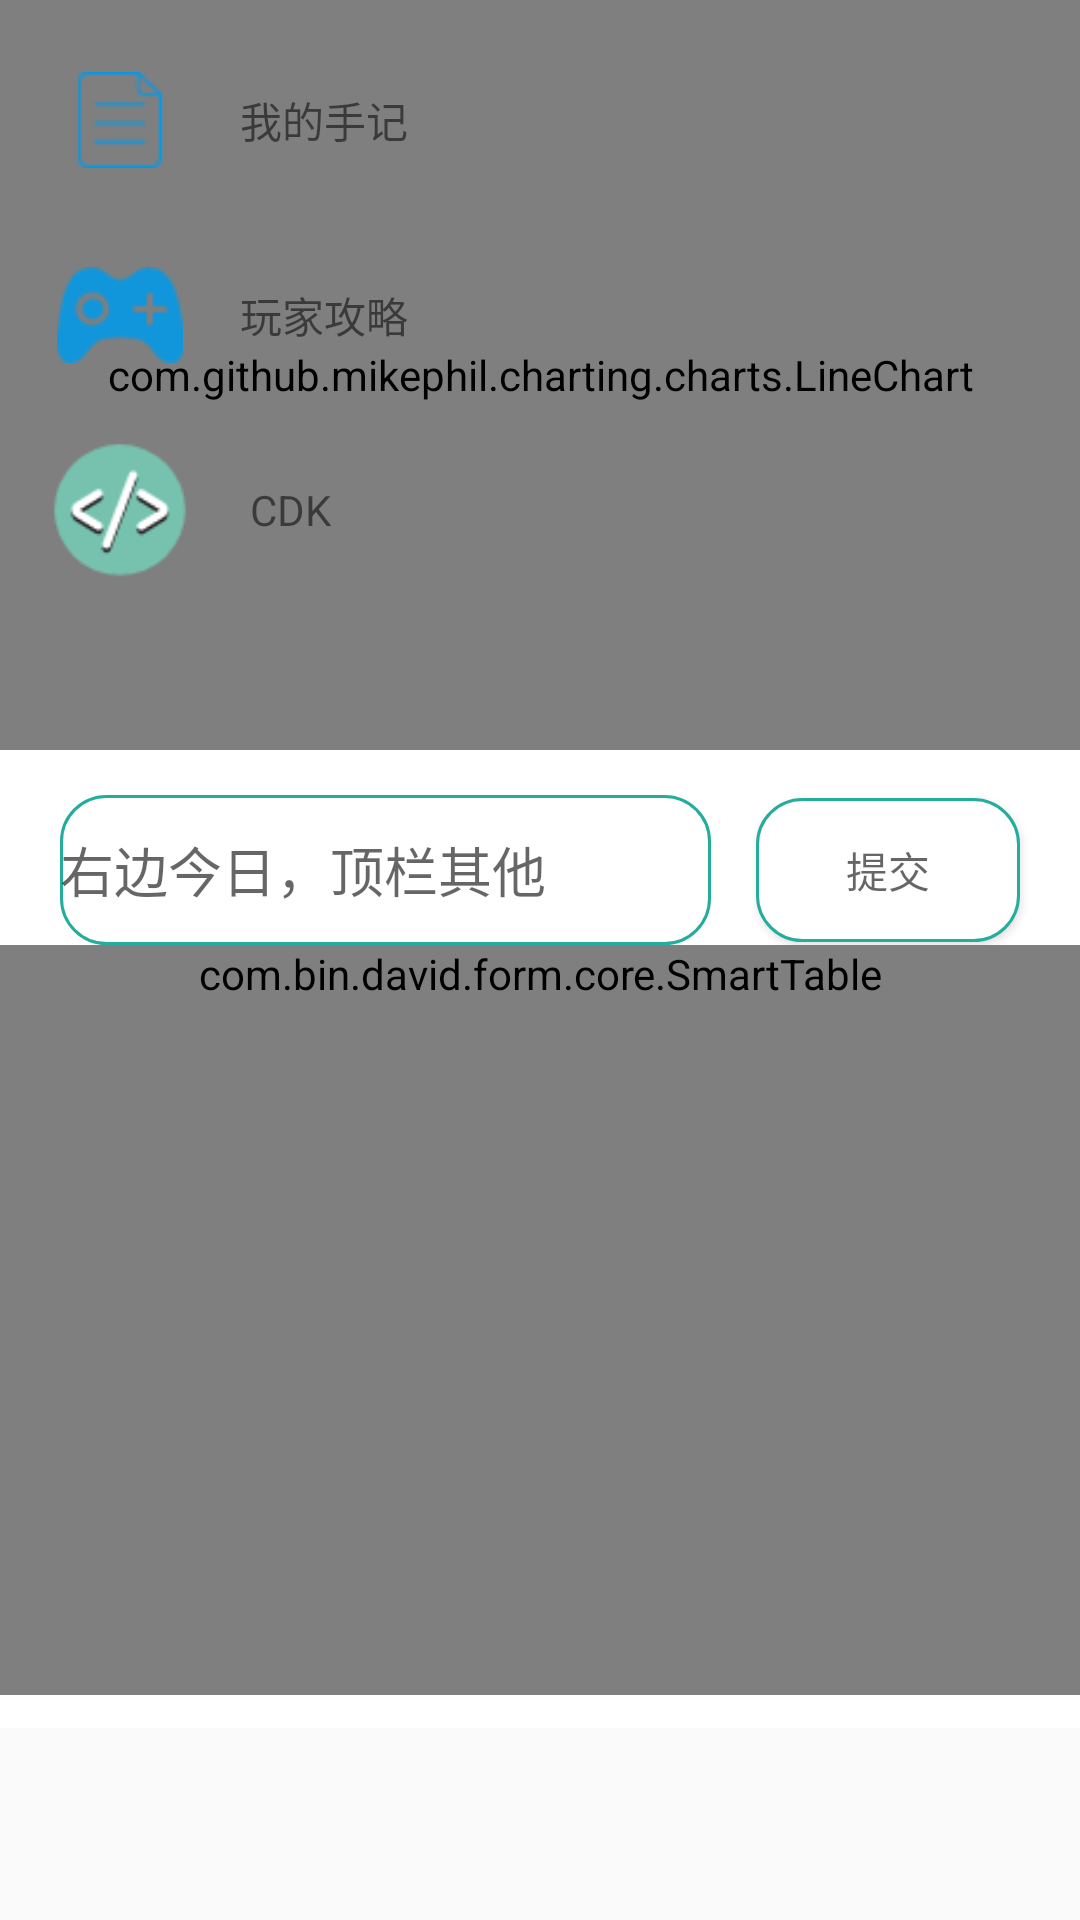

Screen size 1080px x 1920px. Icon name, then its center in pixels as (x=x, y=y):
code: (x=120, y=510)
jilu: (x=120, y=120)
youxi: (x=120, y=315)
